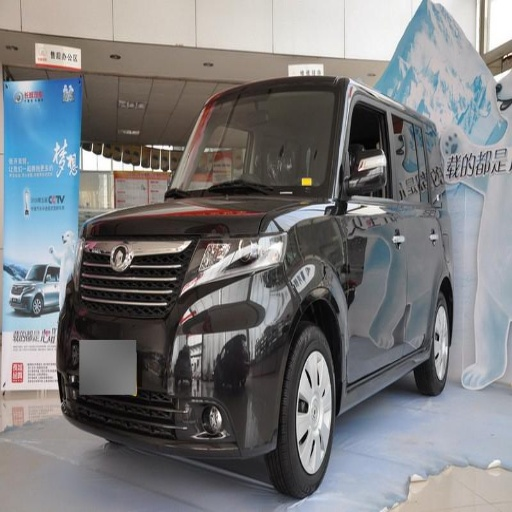front_bumper: (71, 233, 288, 464)
front_glass: (173, 83, 338, 194)
front_left_door: (336, 95, 402, 382)
